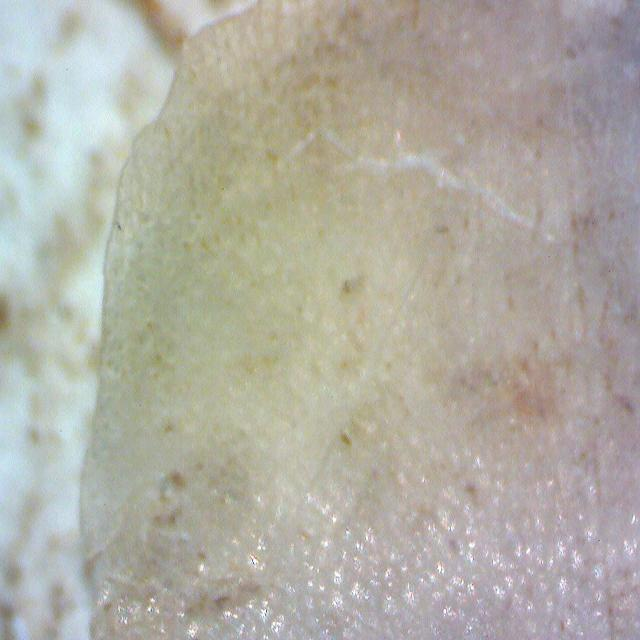microplastic: (78, 0, 639, 640)
